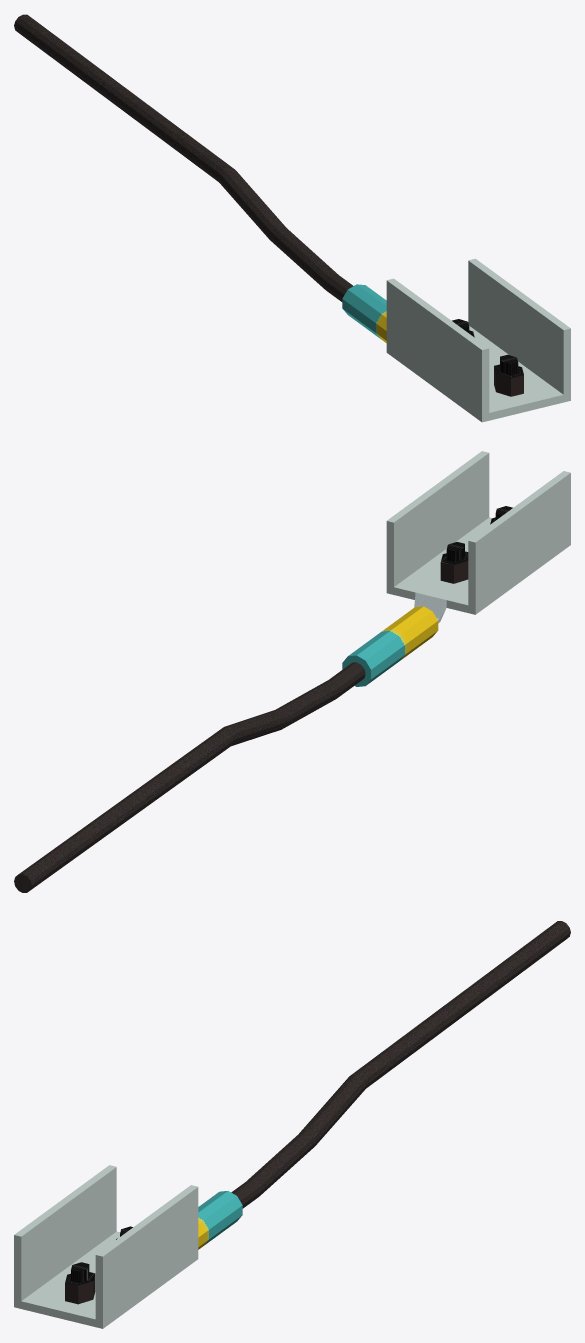
Rendered from dx001-geode.glb.
3 renders of one model, top to bottom at view 1: azimuth 30°, elevation 25°; view 2: azimuth 150°, elevation 25°; view 3: azimuth 330°, elevation 25°, orthographic.
Parts seen in each view (by area): view 1: Node; view 2: Node; view 3: Node.
Boxes of the visible parts, box(x1,y1,x2,y2) form: Node: box(14, 14, 570, 422); Node: box(14, 451, 570, 892); Node: box(14, 921, 570, 1328).
Size of the model in its own units: 0.0458 by 0.0496 by 0.449.
Materials: 6 (6 with a texture image).
